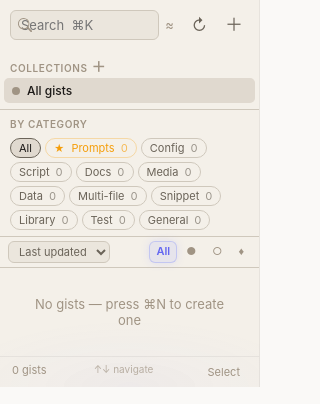
it: Sidebar › toggling search mode switches to the semantic placeholder
Click the button titled "Switch to semantic search (AI)": [169, 25] box [159,16,180,34]
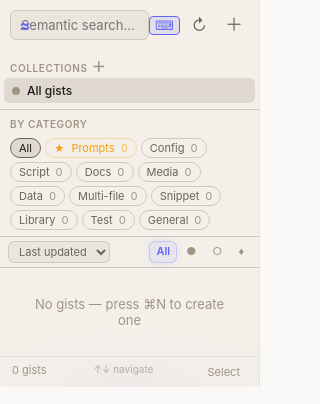
expect the field with placeholder "Semantic search…" is shown: met, box [10,10,149,40]
